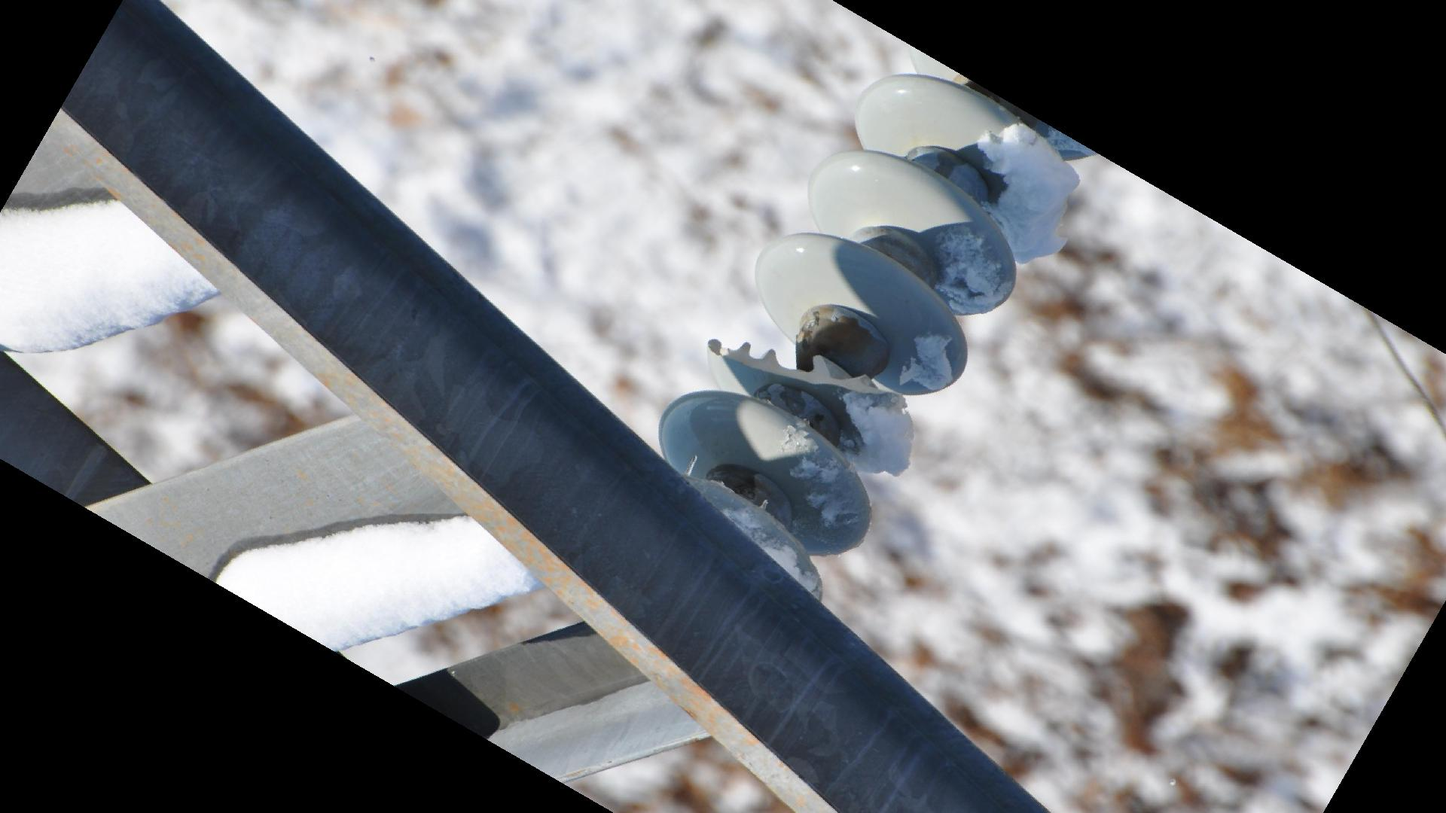insulator: (648, 66, 1081, 591)
insulator_breakage: (703, 331, 908, 413)
